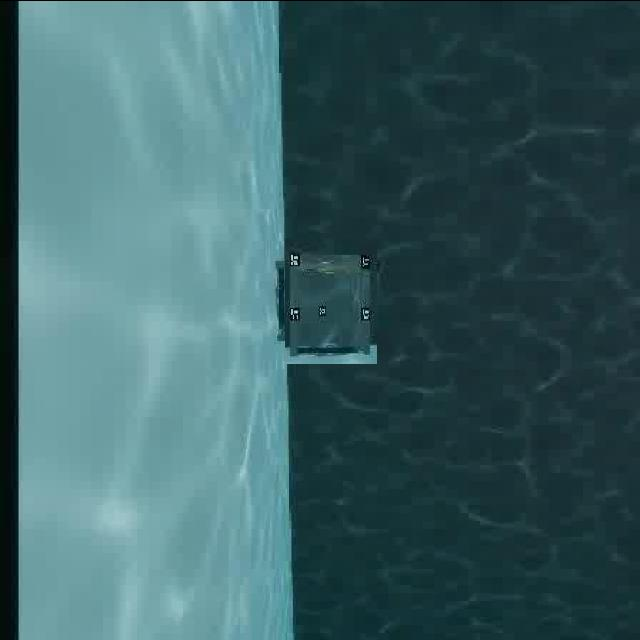Docking Station: (276, 246, 386, 355)
